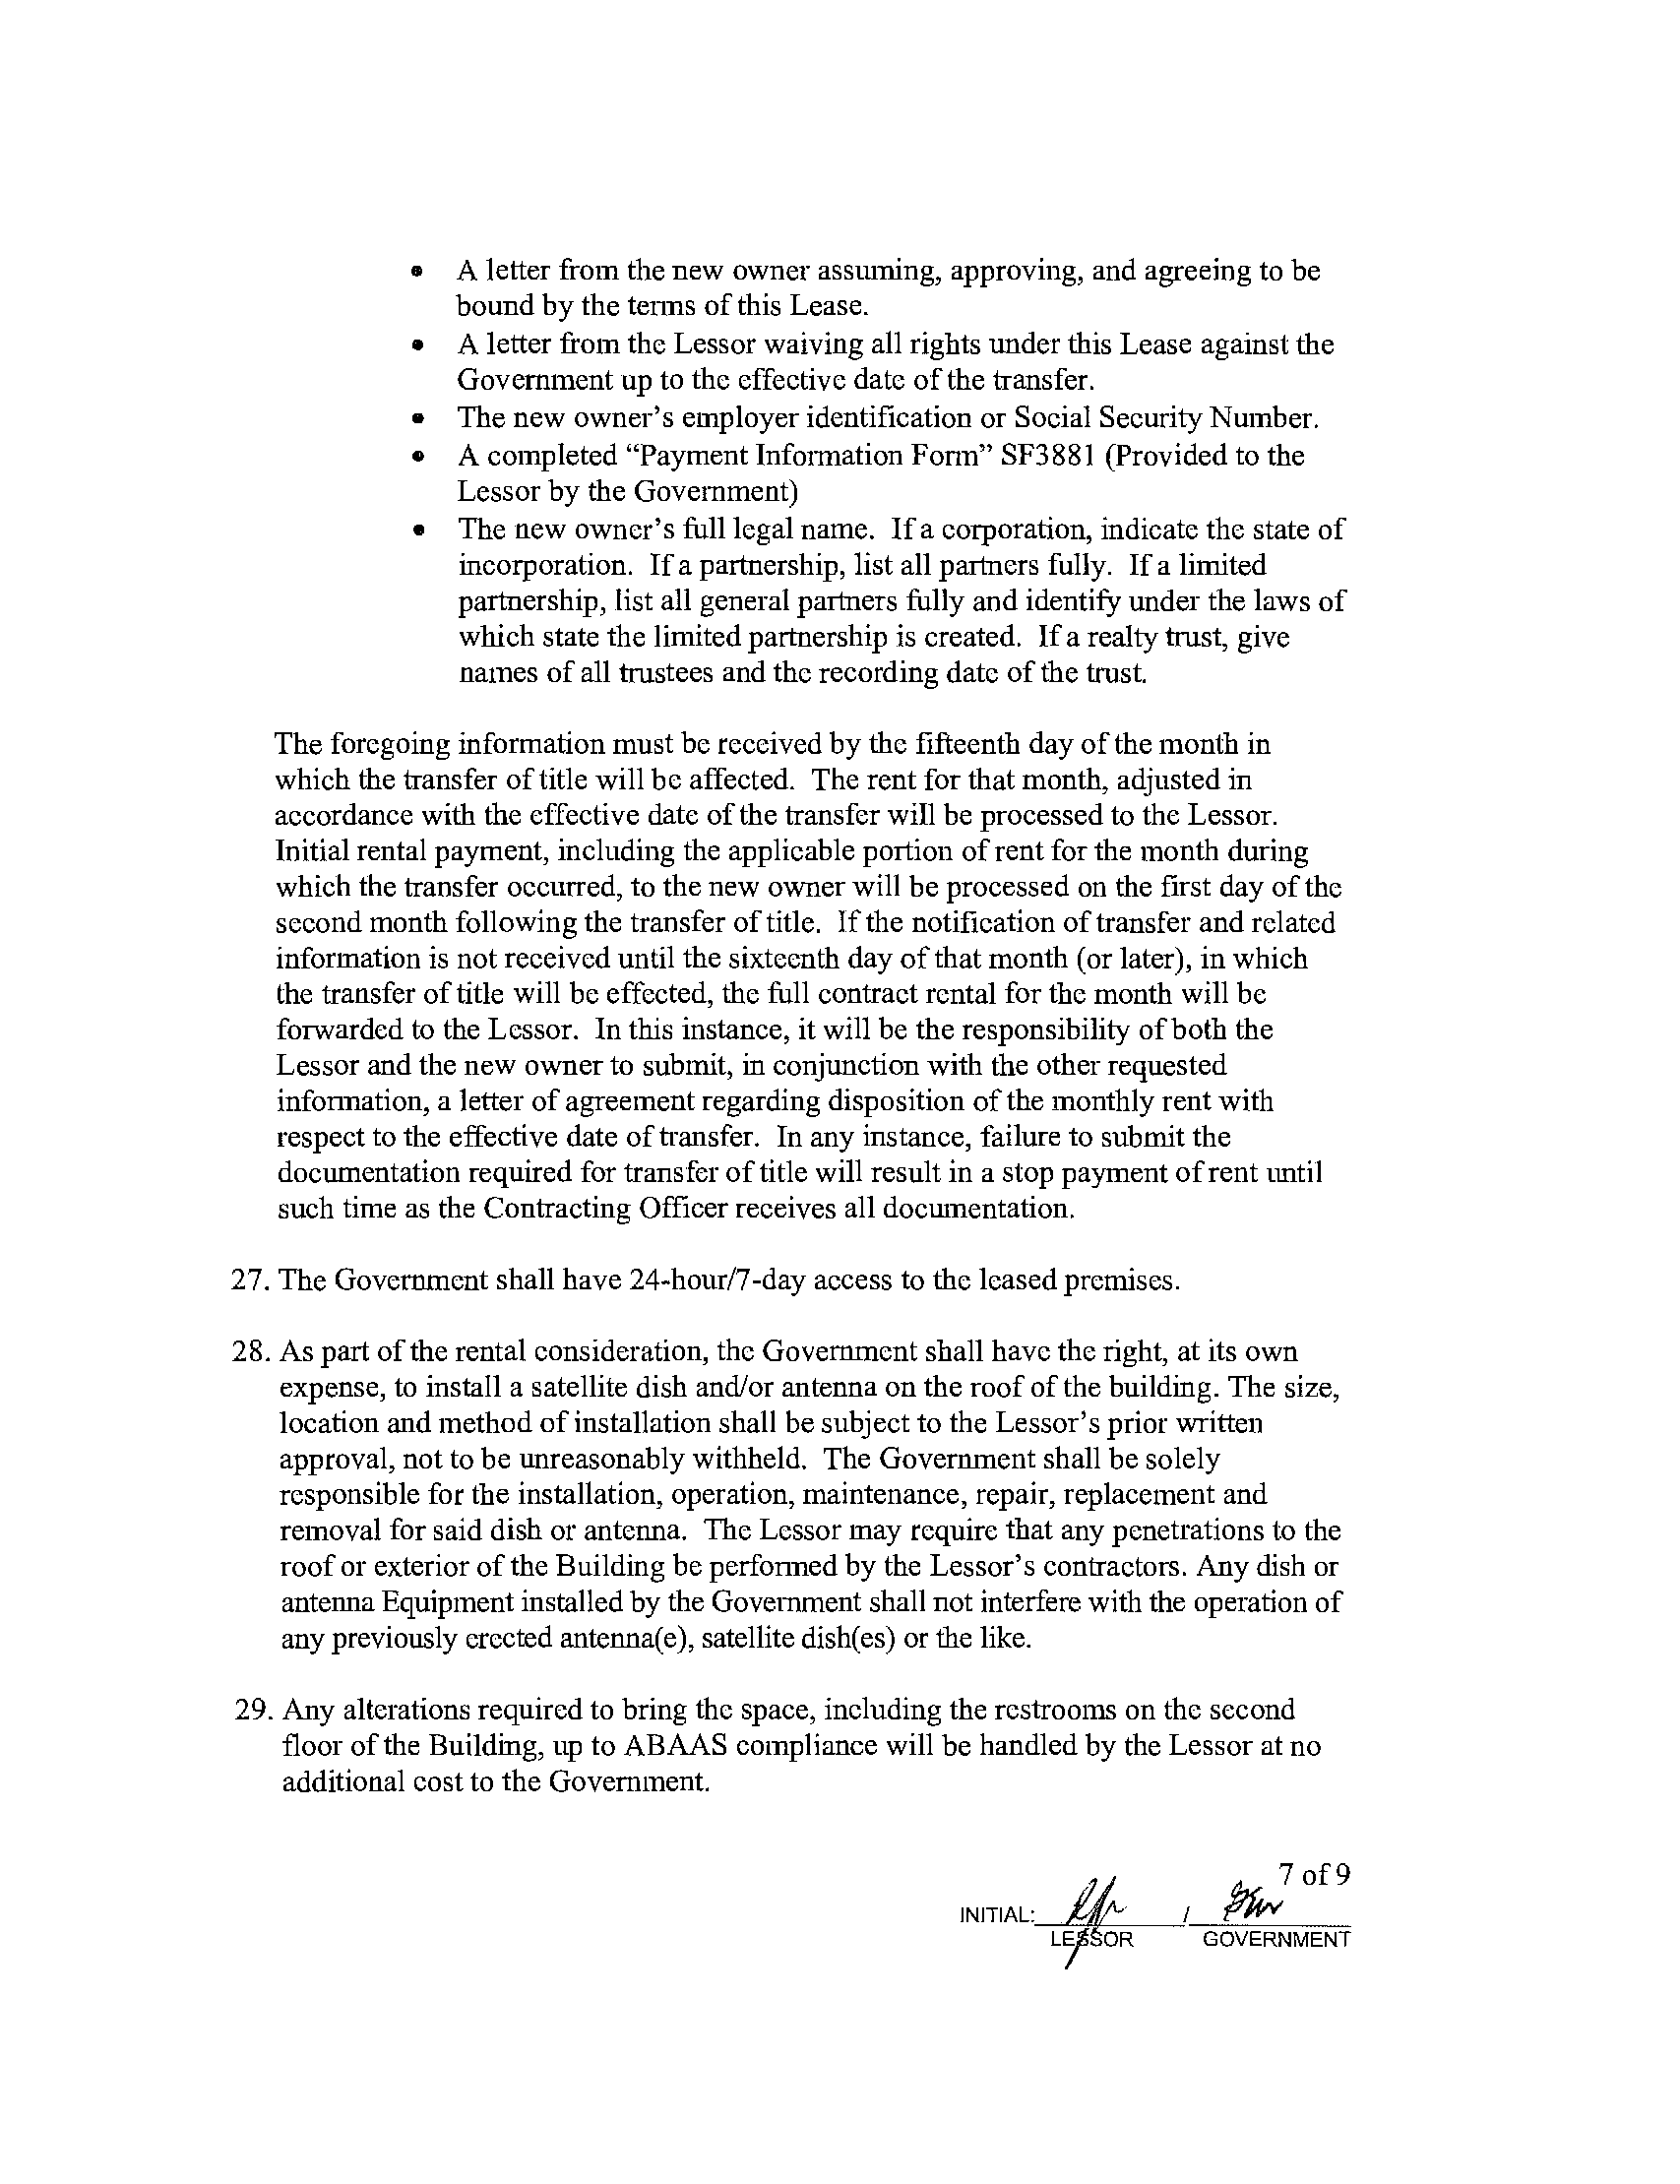handwritten: (1061, 1859, 1133, 1969), (1196, 1874, 1286, 1926)
